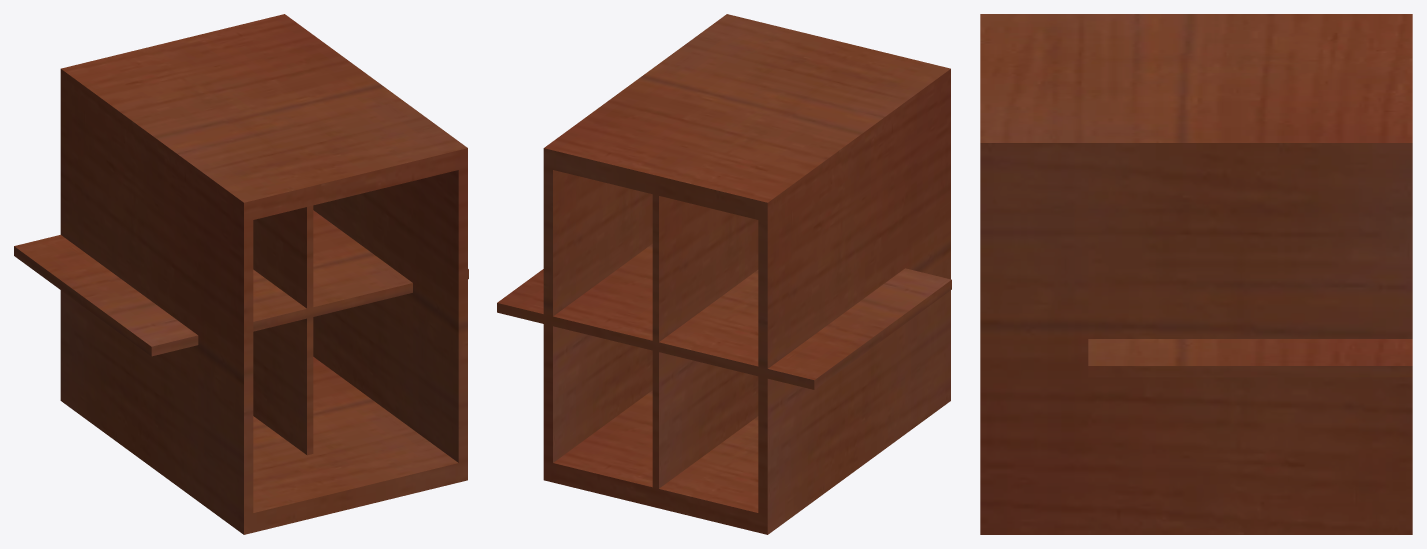
File: sh-lp-mensola-ciliegio.glb
3 renders of one model, left to right at view 1: azimuth 30°, elevation 25°; view 2: azimuth 150°, elevation 25°; view 3: azimuth 270°, elevation 25°, orthographic. The views are drawn at different scales.
Parts seen in each view (by area): view 1: Rectangle02_1; view 2: Rectangle02_1; view 3: Rectangle02_1.
Part boxes in pixels (x1,y1,x2,y2): Rectangle02_1: (14,14,468,534); Rectangle02_1: (497,14,951,534); Rectangle02_1: (980,14,1412,534).
Bounding box in the file's own units: 1 × 1 × 1.
1 material, 1 textured.
